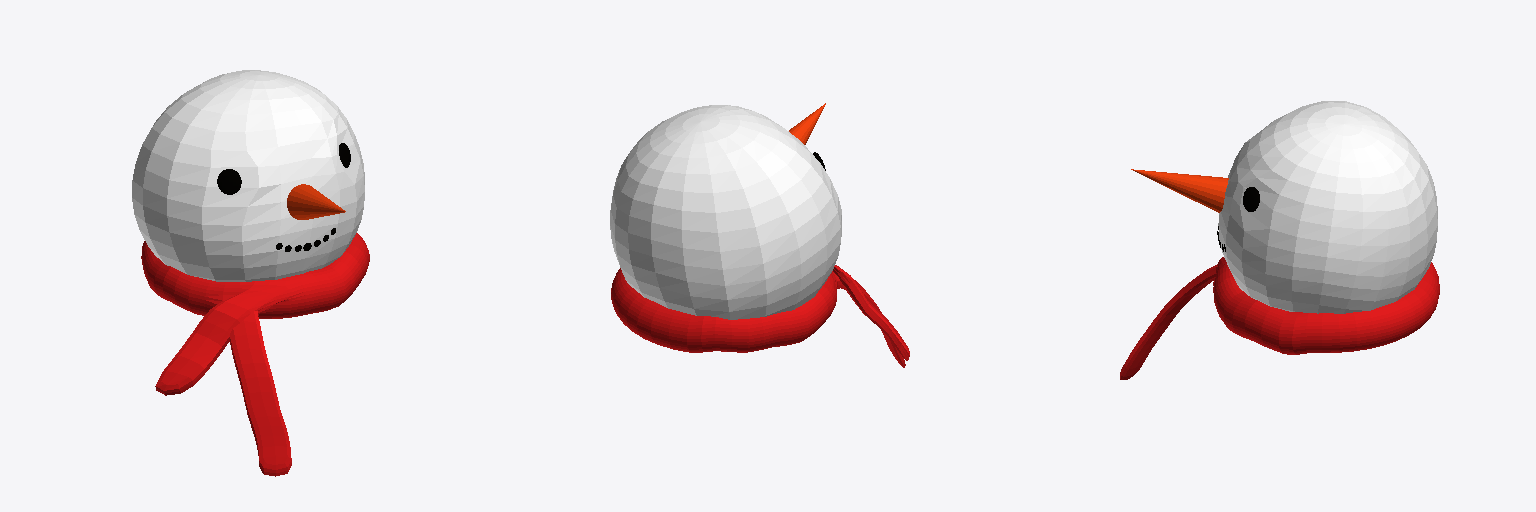
The picture shows the model from 3 angles: view 1: azimuth 30°, elevation 25°; view 2: azimuth 150°, elevation 25°; view 3: azimuth 270°, elevation 25°; orthographic projection.
Visible parts, largest first — view 1: NIEVE2:polySurface1pSphere16, NIEVE2:pTorus1, NIEVE2:pSphere16polySurface11, NIEVE2:polySurface3; view 2: NIEVE2:polySurface1pSphere16, NIEVE2:pTorus1; view 3: NIEVE2:polySurface1pSphere16, NIEVE2:pTorus1, NIEVE2:pSphere16polySurface11.
Part boxes in pixels (bbox=[...]): NIEVE2:polySurface1pSphere16: bbox=[132, 70, 364, 281]; NIEVE2:pTorus1: bbox=[141, 233, 369, 476]; NIEVE2:pSphere16polySurface11: bbox=[287, 184, 345, 219]; NIEVE2:polySurface3: bbox=[217, 143, 350, 251]; NIEVE2:polySurface1pSphere16: bbox=[610, 105, 841, 319]; NIEVE2:pTorus1: bbox=[611, 265, 909, 367]; NIEVE2:polySurface1pSphere16: bbox=[1218, 101, 1437, 313]; NIEVE2:pTorus1: bbox=[1120, 257, 1439, 379]; NIEVE2:pSphere16polySurface11: bbox=[1131, 169, 1228, 212].
Size of the model in its own units: 3.98 by 4.73 by 4.54.
4 materials, 4 textured.